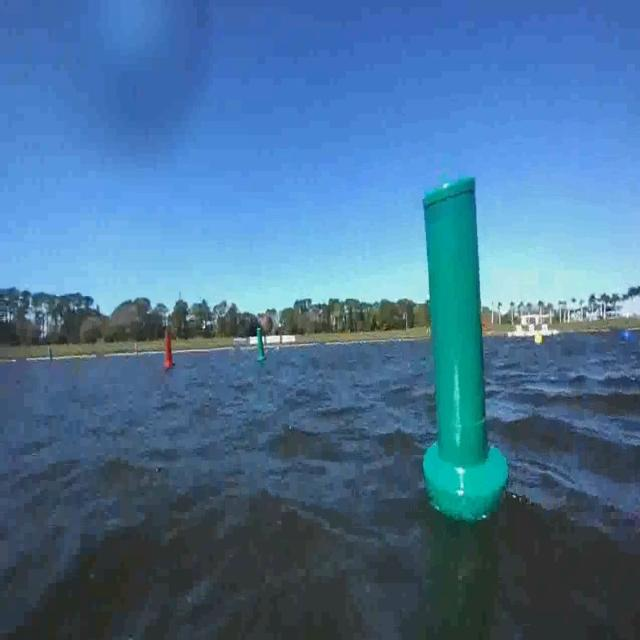green-column-buoy: (418, 171, 508, 529), (257, 329, 269, 363)
red-column-buoy: (162, 332, 174, 368)
yellow-buoy: (534, 333, 544, 349)
